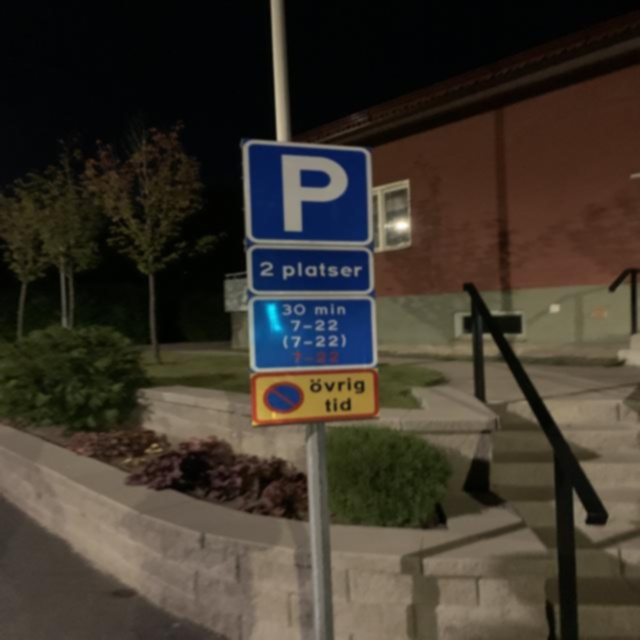P-skylt: (241, 138, 373, 248)
